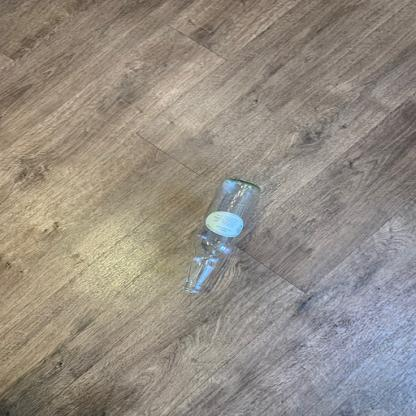trash: (178, 177, 266, 299)
